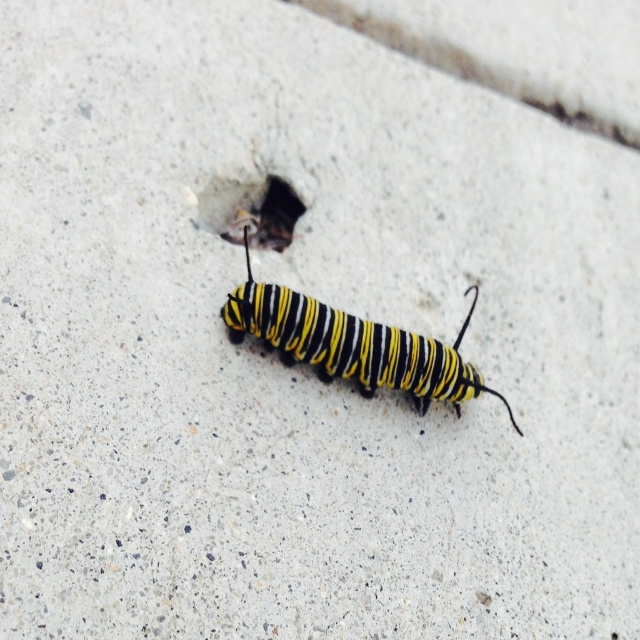Caterpillar: (219, 222, 522, 432)
